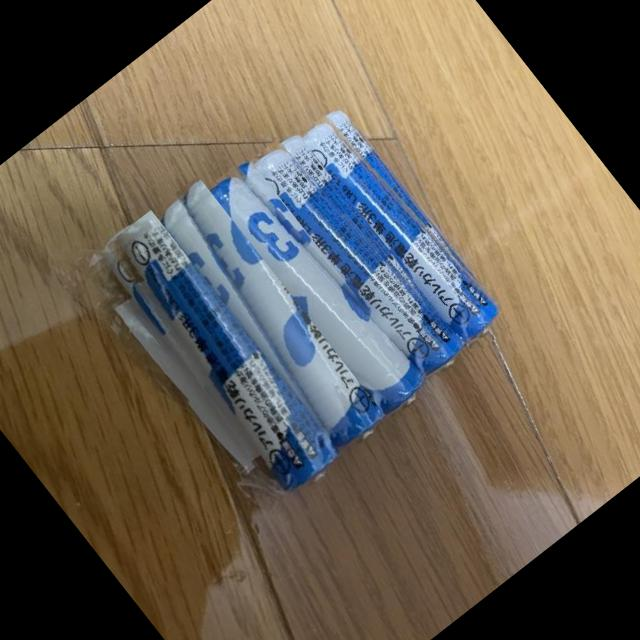Hazard: (86, 209, 350, 514), (147, 175, 394, 467), (203, 148, 442, 428), (249, 124, 476, 391), (297, 100, 514, 357)
